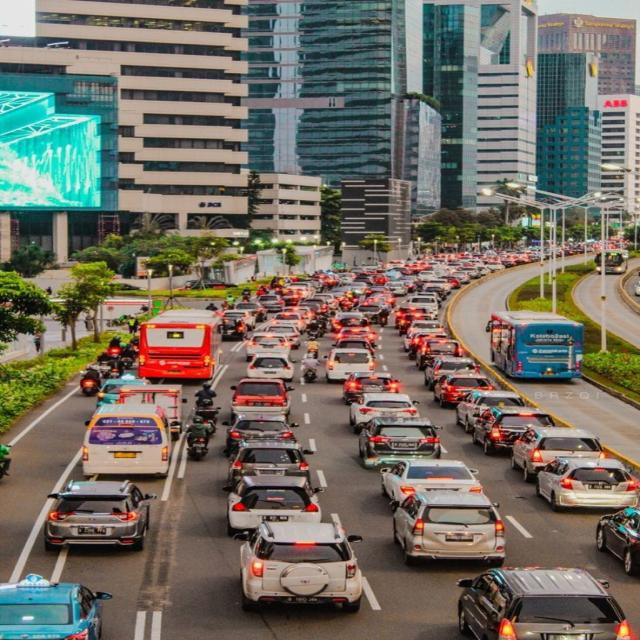car: (334, 323, 506, 571), (29, 410, 178, 545), (241, 480, 347, 604), (527, 419, 622, 517), (249, 326, 291, 431)
